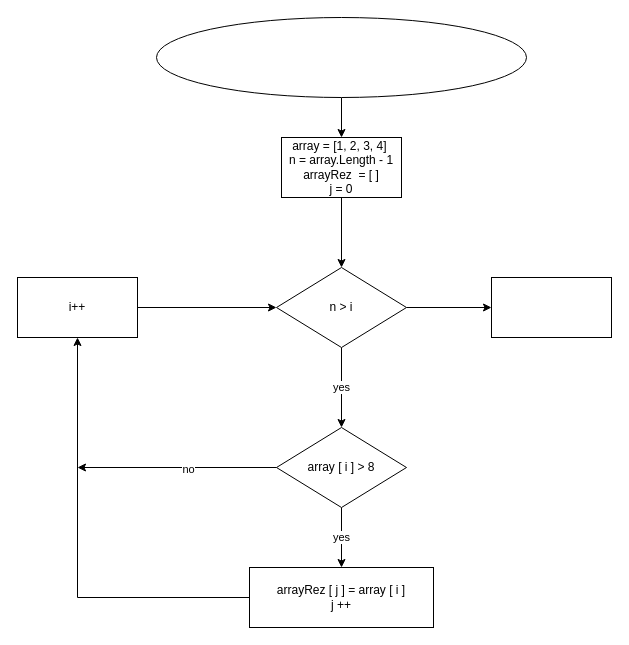
Some shapes in this 629 by 645 pixel diagram are drawn without their labels. Here are the shapes that lost their labels. From the top down, the centre of each, then its label:
(x=341, y=57): Из имеющегося массива целых чисел сформировать массив из чисел, больших 8
(x=551, y=307): return arrayRez
